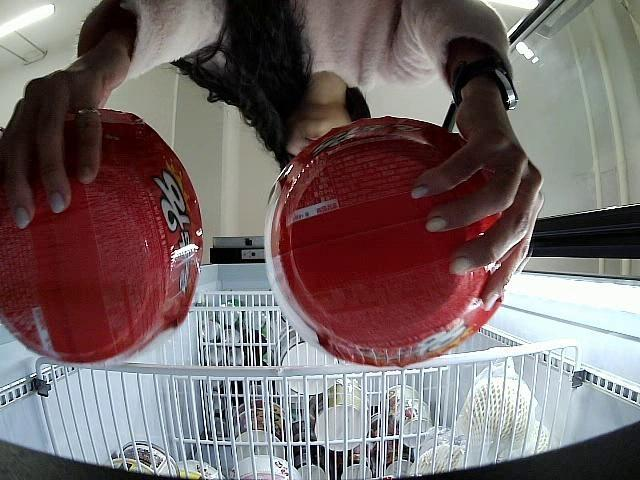10_wangTtukkeong: (263, 115, 507, 366), (0, 107, 203, 368)
